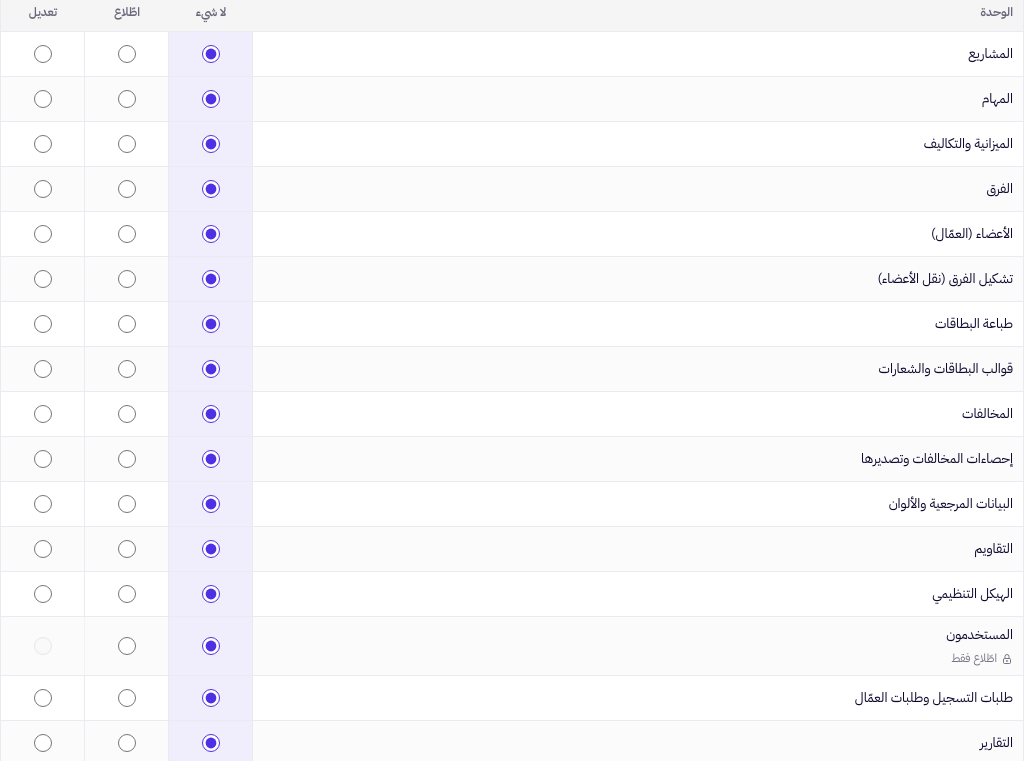
it: AssistantGrid (A12 assistants) › projects:view grants reading every project, not managing them
The image size is (1024, 761).
Click the radio button named "المشاريع: اطّلاع". click: click(126, 54)
box: [118,45,136,63]
(page scrolled)
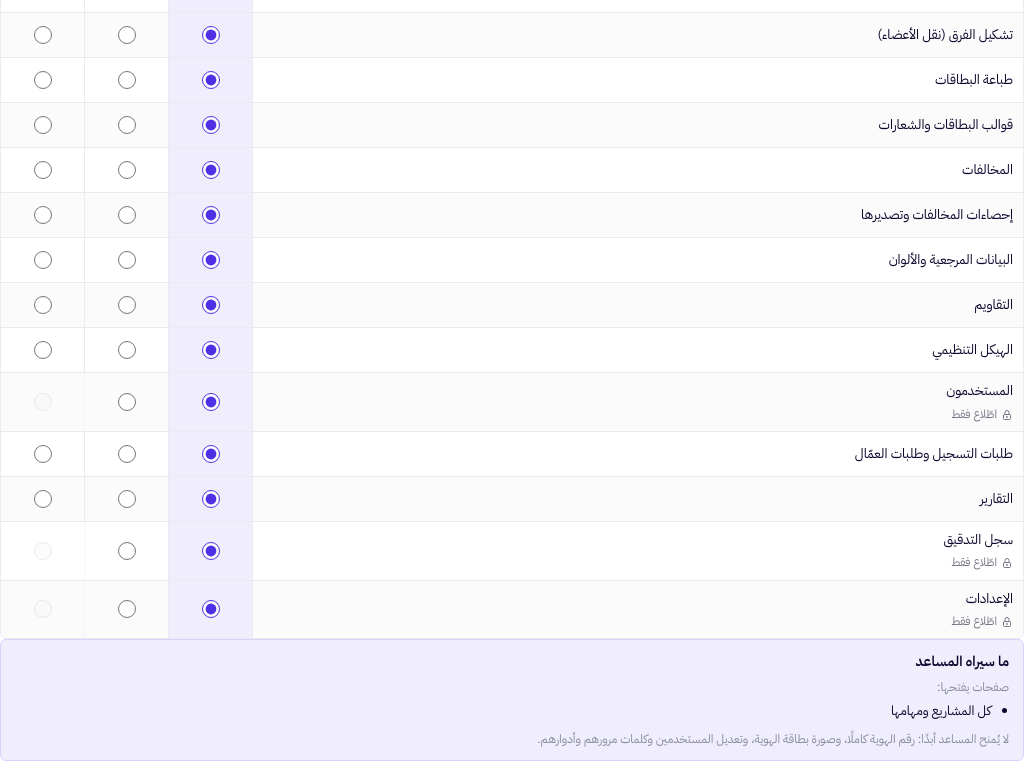
Expected: the element with test id "assistant-preview" shows "كل المشاريع ومهامها", [891,701,991,720]
